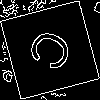C: (25, 25, 84, 80)
